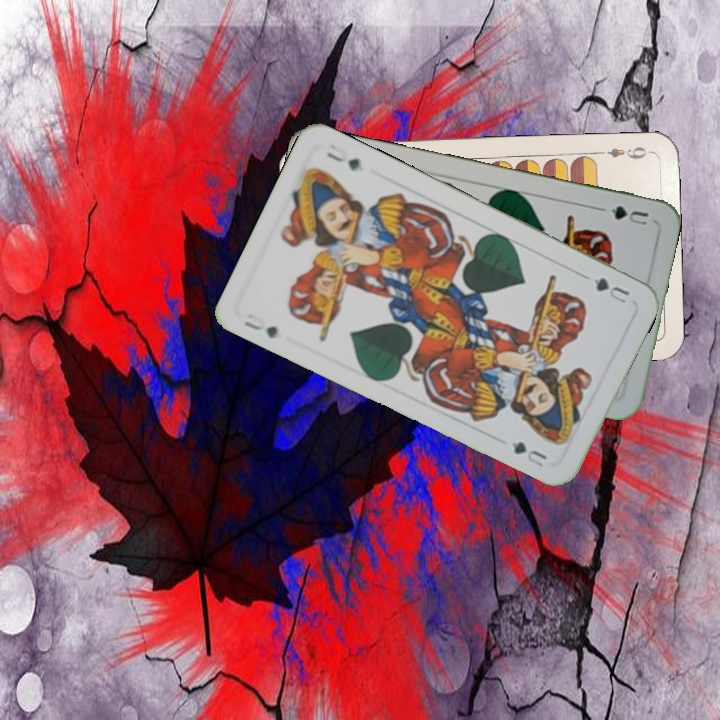E9: (594, 143, 653, 162)
GU: (596, 201, 651, 229), (589, 273, 632, 307), (239, 309, 281, 341)
